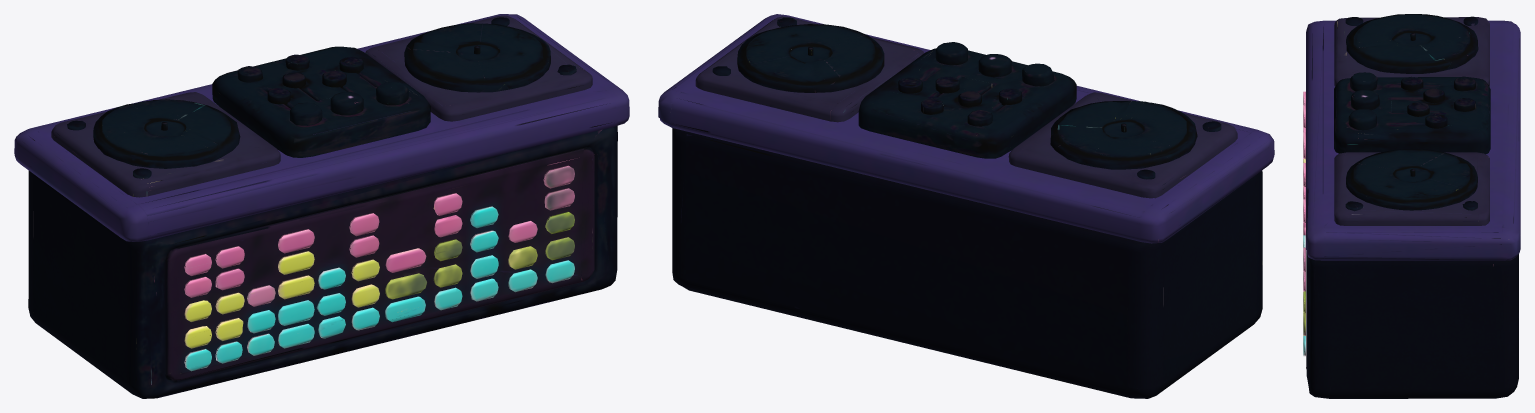
File: dance_djbooth.glb
The picture shows the model from 3 angles, left to right: view 1: azimuth 30°, elevation 25°; view 2: azimuth 150°, elevation 25°; view 3: azimuth 270°, elevation 25°; orthographic projection. The views are drawn at different scales.
Parts seen in each view (by area): view 1: geometry_0; view 2: geometry_0; view 3: geometry_0.
Boxes of the visible parts, x1=… form: geometry_0: x1=14, y1=14, x2=629, y2=398; geometry_0: x1=658, y1=14, x2=1274, y2=398; geometry_0: x1=1303, y1=14, x2=1520, y2=398.
Size of the model in its own units: 0.9497 by 0.4116 by 0.3984.
1 material, 1 textured.
